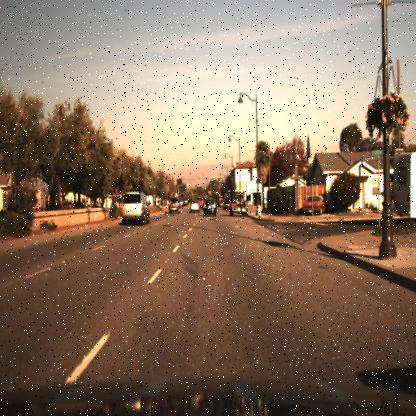car: (114, 181, 156, 231), (300, 194, 326, 220), (229, 191, 248, 219), (202, 193, 219, 221), (164, 194, 180, 218), (188, 198, 200, 218)
